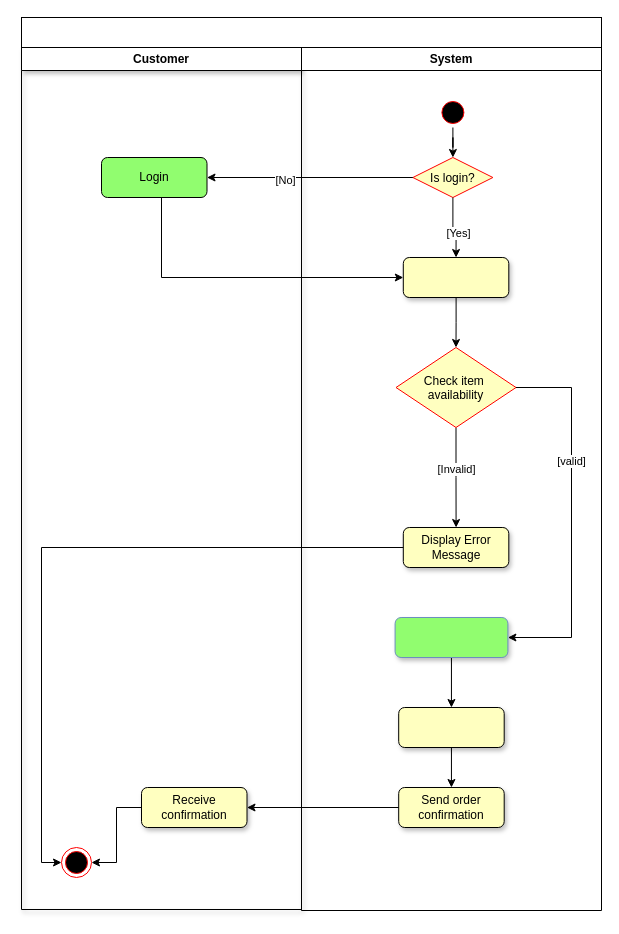
Some shapes in this 619 by 934 pixel diagram are drawn without their labels. The shapes that lost their labels are listed below. From the top down, each one's centre as x and y in pixels, then its label:
At point (311, 32): "Place Order".
At point (456, 278): "Retrieve Cart Items".
At point (452, 638): "Make payment".
At point (452, 728): "Update Inventory".
